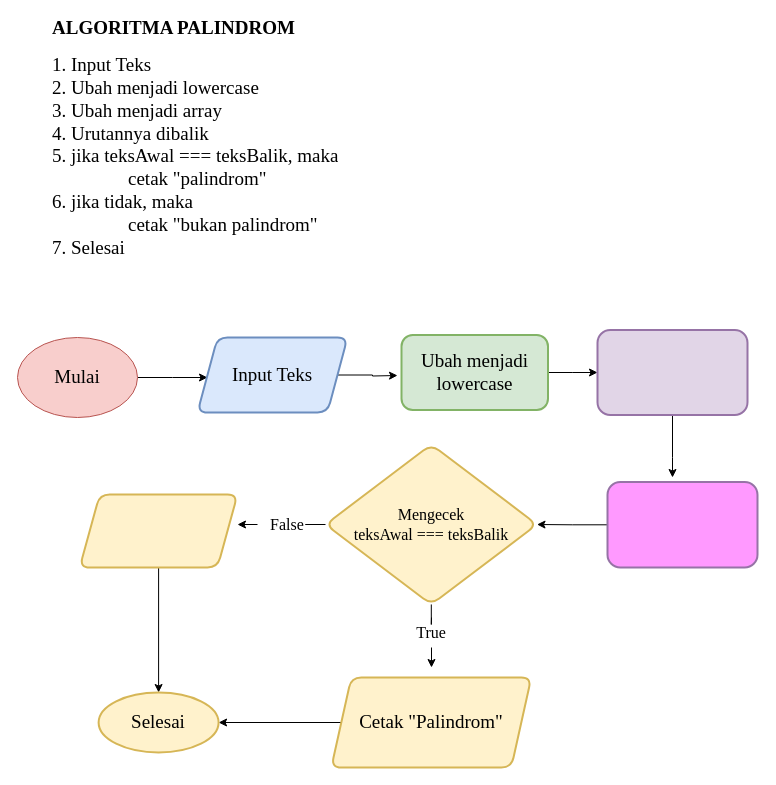
The diagram is 776 pixels wide and 785 high, and some of its shapes have lost their labels. The shapes that lost their labels are listed below. From the top down, each one's centre as x and y in pixels, then its label:
[672,372]: Ubah menjadi array
[158,530]: Cetak "Bukan Palindrom"
[682,524]: Membalik urutan index array
